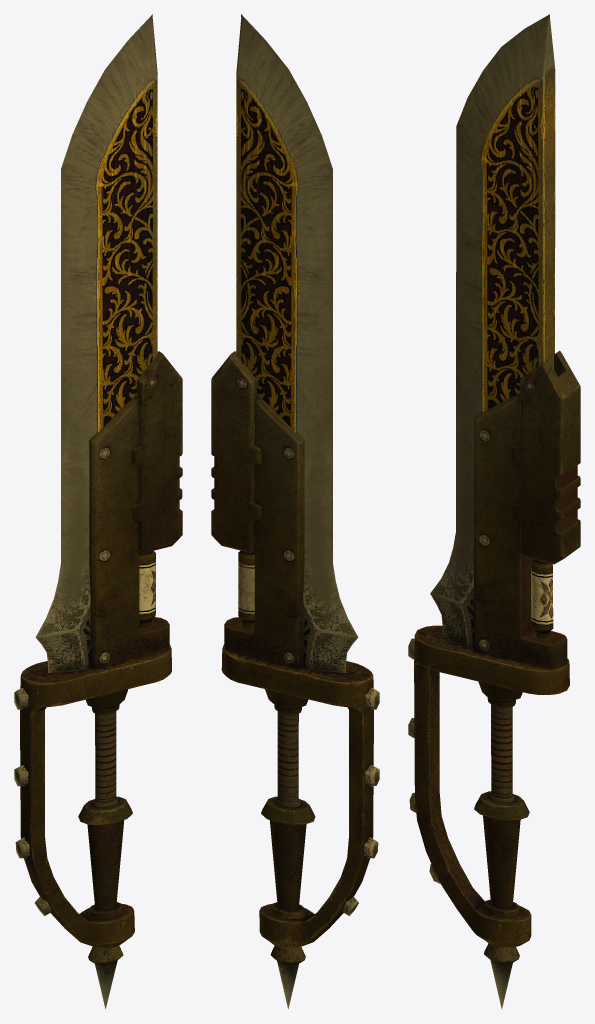
Rendered from bs_caxe005.obj.
The picture shows the model from 3 angles, left to right: view 1: azimuth 30°, elevation 25°; view 2: azimuth 150°, elevation 25°; view 3: azimuth 330°, elevation 25°; orthographic projection. The views are drawn at different scales.
Visible parts, largest first — view 1: bs_caxe005_001_LOD_1, bs_caxe005_000_LOD_1; view 2: bs_caxe005_001_LOD_1, bs_caxe005_000_LOD_1; view 3: bs_caxe005_001_LOD_1, bs_caxe005_000_LOD_1.
Boxes of the visible parts, <box> form: bs_caxe005_001_LOD_1: <box>14,14,182,948</box>; bs_caxe005_000_LOD_1: <box>88,945,123,1008</box>; bs_caxe005_001_LOD_1: <box>211,14,379,948</box>; bs_caxe005_000_LOD_1: <box>270,945,305,1008</box>; bs_caxe005_001_LOD_1: <box>408,14,580,947</box>; bs_caxe005_000_LOD_1: <box>484,943,519,1009</box>.
Size of the model in its own units: 43.98 by 263 by 12.59.
